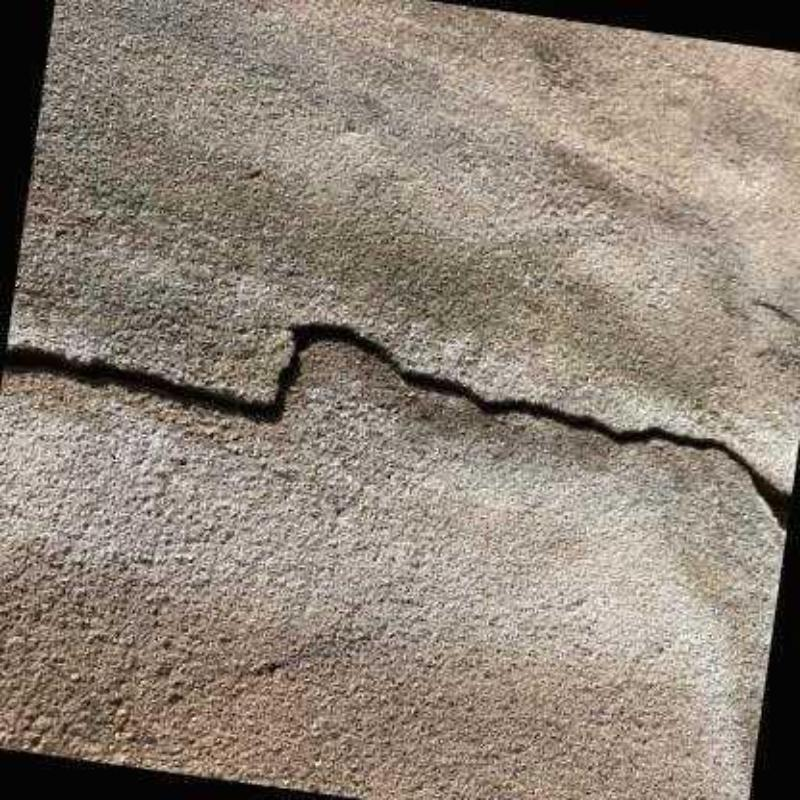crack: (3, 324, 794, 532)
